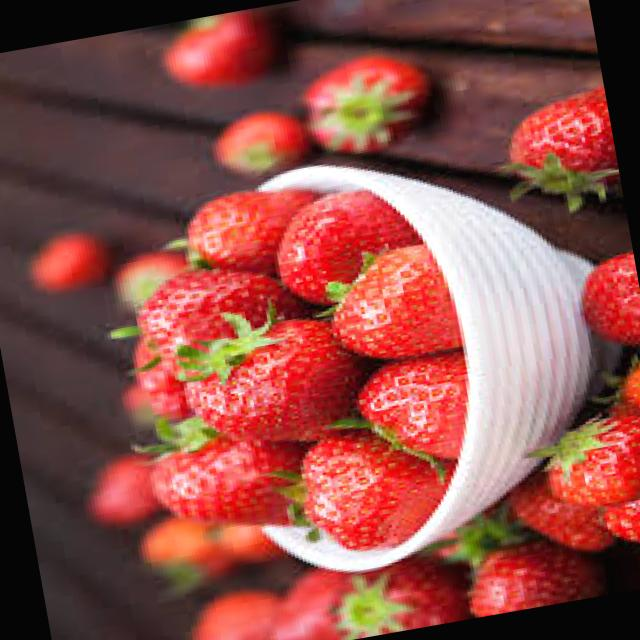strawberry: (182, 302, 346, 462), (137, 416, 309, 558), (290, 424, 452, 562), (321, 238, 464, 376), (492, 86, 622, 206), (536, 407, 640, 521)
